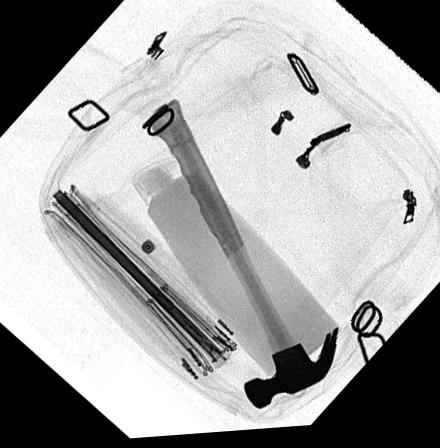Hammer: (151, 100, 339, 412)
